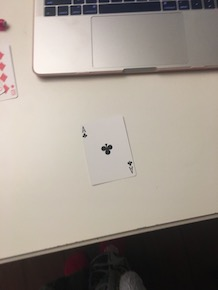AceOfClubs: (74, 113, 139, 193)
TenOfDiamonds: (1, 40, 18, 103)
